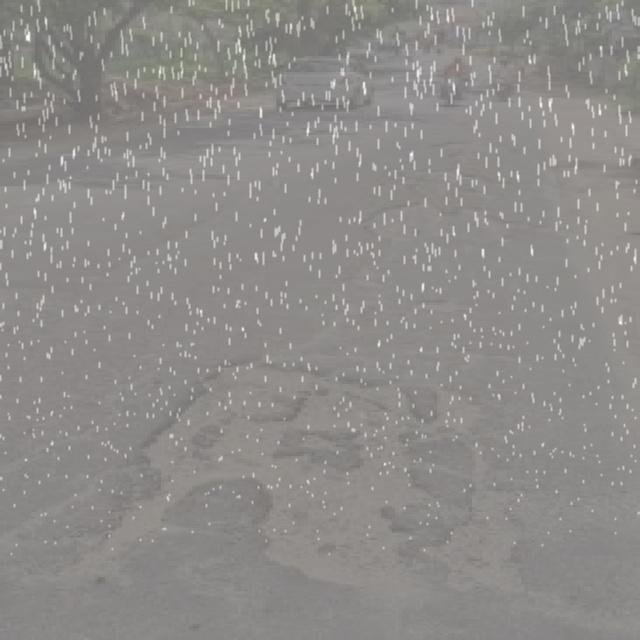Pothole: (111, 349, 546, 619), (542, 150, 630, 210)
